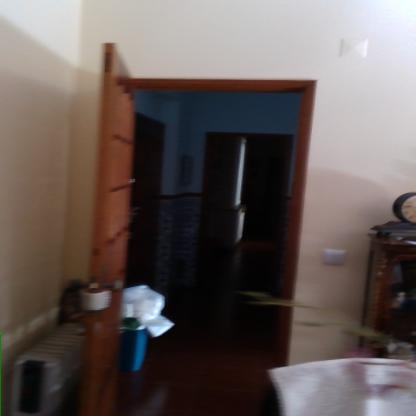open: (74, 36, 322, 415)
